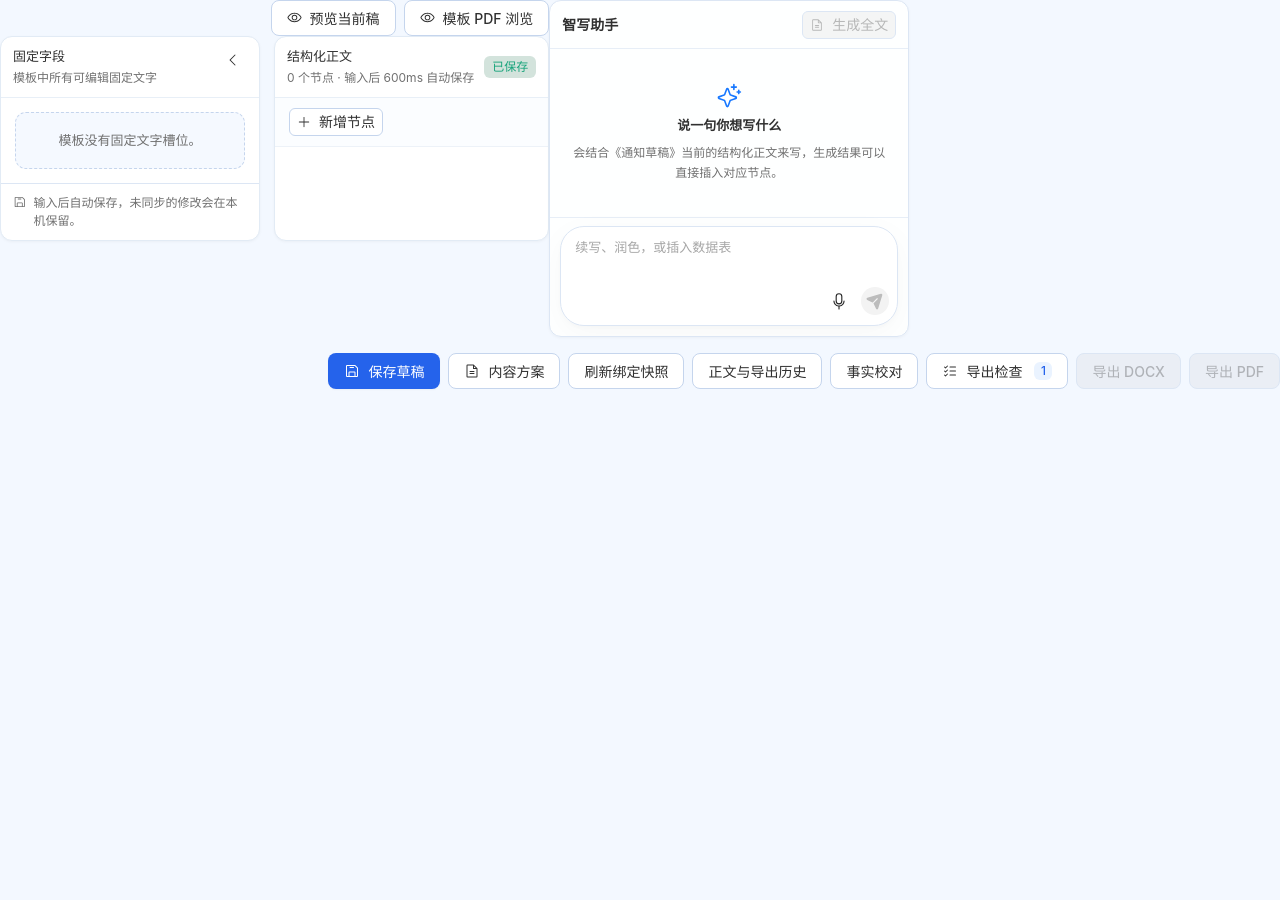
Test case: DraftDetailView › disables export and detach when a stale binding has no frozen snapshot
Check: the text "已保存" is shown, box [484,56,536,78]
Check: the button "导出 DOCX" is disabled, box [1076,353,1181,389]
What coordinates should you click on to do the following:
click the button "导出检查 1"
I would click on:
 (997, 371)
Its box is [926,353,1068,389].
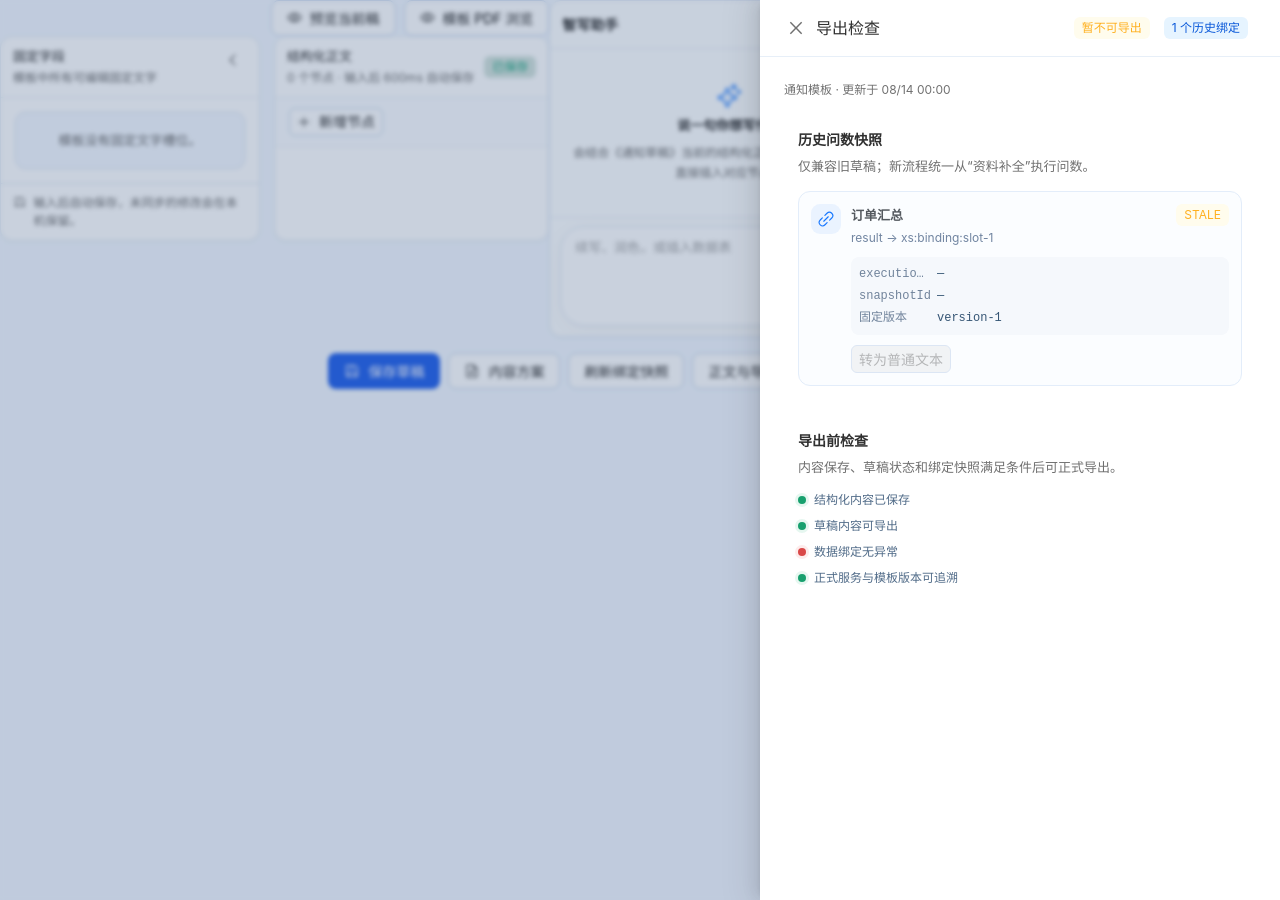
Check: the button "转为普通文本" is disabled, box [851,345,951,373]
